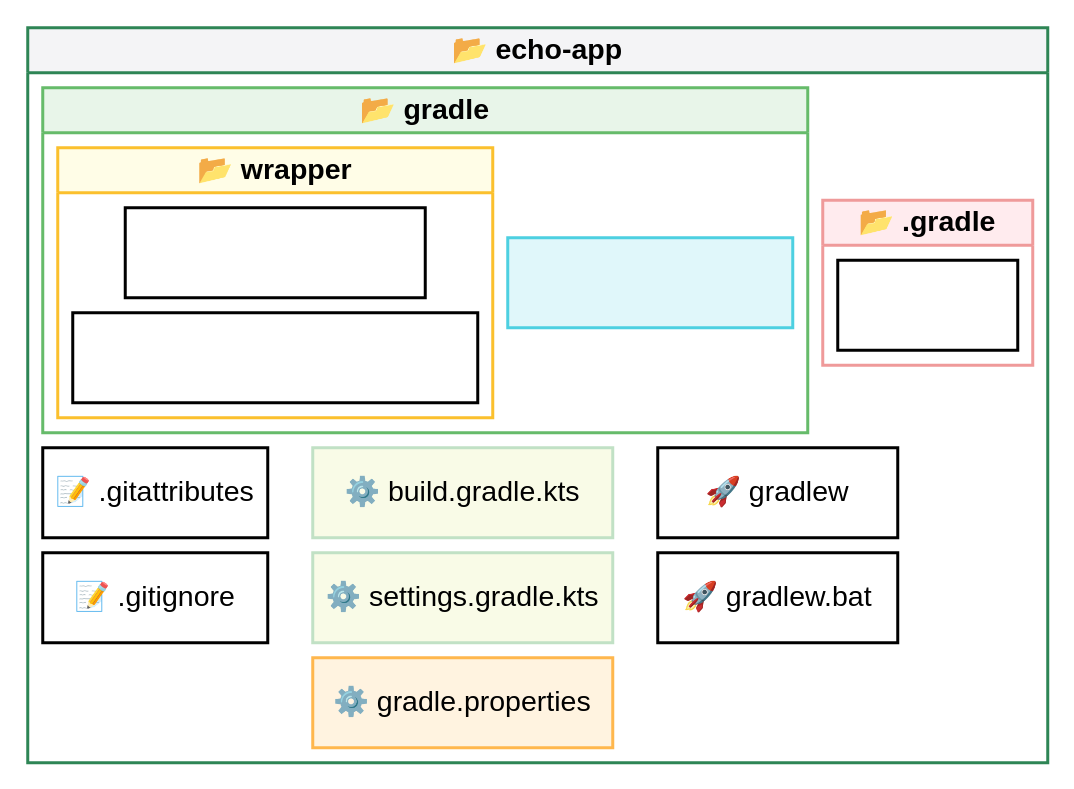
Some shapes in this 1074 by 789 pixel diagram are drawn without their labels. Here are the shapes that lost their labels. From the top down, the centre of each, then its label:
At (274,252): "📦 gradle-wrapper.jar".
At (650,282): "🧩 libs.versions.toml".
At (927,304): "📦 archivos internos".
At (274,357): "📝 gradle-wrapper.properties".
